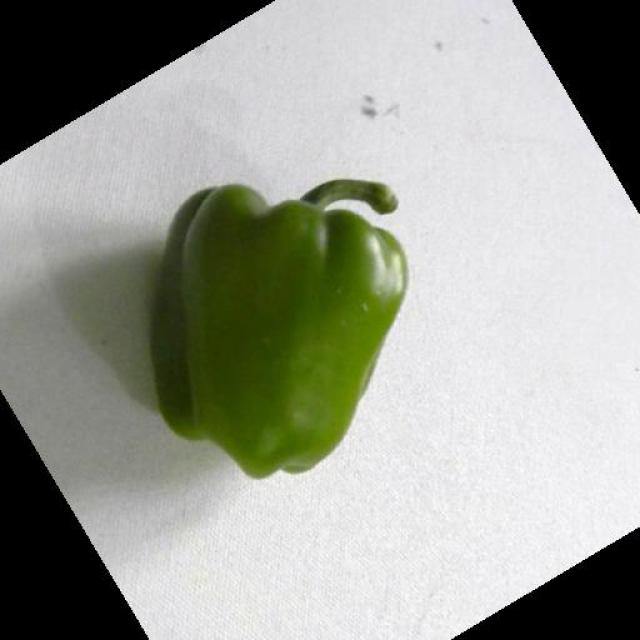Fresh_Capsicum: (126, 152, 386, 486)
